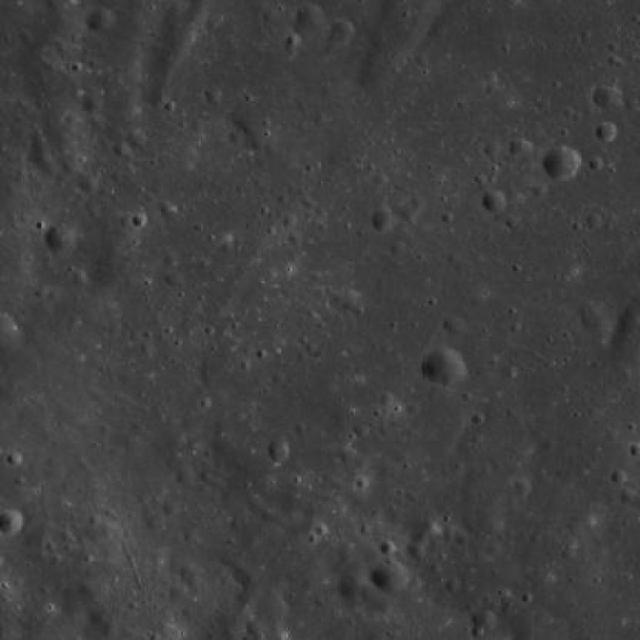crater: (41, 108, 97, 162), (370, 14, 421, 63), (380, 0, 444, 35), (422, 346, 466, 388), (357, 48, 400, 90), (160, 11, 203, 51), (372, 560, 410, 596), (546, 145, 583, 181), (0, 313, 25, 358), (147, 46, 180, 80), (47, 224, 78, 256), (338, 569, 370, 600), (78, 574, 107, 603), (298, 4, 327, 32), (88, 8, 116, 34), (142, 82, 168, 109), (0, 510, 25, 536), (184, 3, 210, 28), (328, 18, 354, 42), (596, 85, 621, 109), (473, 610, 498, 632), (370, 208, 395, 230), (587, 312, 610, 334), (270, 440, 292, 462), (483, 191, 506, 212), (510, 138, 532, 158), (39, 154, 61, 174), (31, 144, 52, 164), (84, 93, 105, 113), (128, 130, 148, 150), (516, 156, 536, 176), (410, 529, 430, 548), (162, 498, 182, 517), (598, 123, 618, 142), (446, 318, 466, 337), (159, 249, 178, 268), (178, 468, 198, 486), (246, 618, 265, 636), (148, 513, 166, 532), (168, 270, 186, 288), (408, 542, 426, 560), (342, 448, 360, 466), (410, 195, 428, 212), (80, 176, 98, 193), (184, 434, 202, 451), (348, 558, 367, 574), (379, 539, 396, 556), (516, 480, 533, 497), (620, 488, 638, 504), (74, 270, 91, 286), (359, 584, 376, 600), (486, 142, 503, 158), (532, 184, 550, 199), (8, 452, 24, 468)
